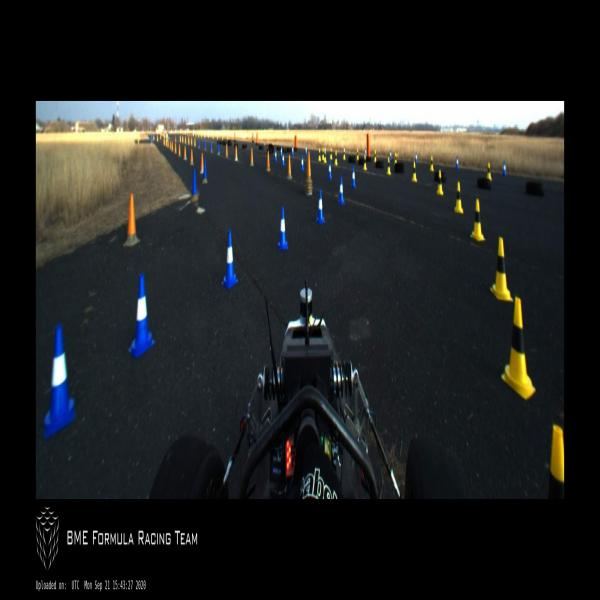blue_cone: (43, 324, 75, 438), (128, 273, 155, 358), (221, 230, 239, 288), (278, 205, 288, 250), (316, 189, 326, 224), (338, 175, 345, 204), (351, 165, 356, 188), (328, 160, 332, 180), (502, 161, 507, 176), (300, 153, 304, 171), (281, 152, 285, 167), (455, 156, 459, 169), (274, 147, 277, 162), (415, 151, 417, 163), (390, 149, 392, 160)
unknown_cone: (123, 194, 140, 248), (305, 151, 313, 182), (192, 170, 199, 201), (286, 154, 293, 180), (202, 159, 208, 184), (265, 149, 271, 172), (249, 146, 254, 166), (189, 148, 194, 166), (200, 152, 204, 173), (234, 144, 238, 162), (183, 146, 187, 160), (217, 142, 220, 158), (225, 144, 228, 157)
yellow_cone: (501, 297, 535, 399), (490, 236, 513, 301), (549, 426, 564, 499), (470, 198, 485, 242), (454, 181, 464, 213), (436, 170, 444, 194), (411, 160, 417, 183), (486, 162, 492, 181), (386, 156, 391, 175), (429, 154, 434, 171), (363, 154, 367, 170), (334, 150, 338, 165), (323, 148, 327, 163), (373, 149, 377, 163), (343, 146, 346, 161), (394, 151, 397, 166), (318, 148, 321, 162), (356, 148, 359, 161), (330, 146, 332, 162), (322, 147, 324, 159)
